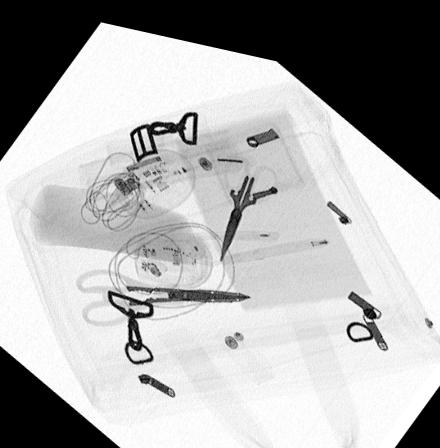Scissors: (73, 262, 254, 322), (220, 139, 280, 254)
